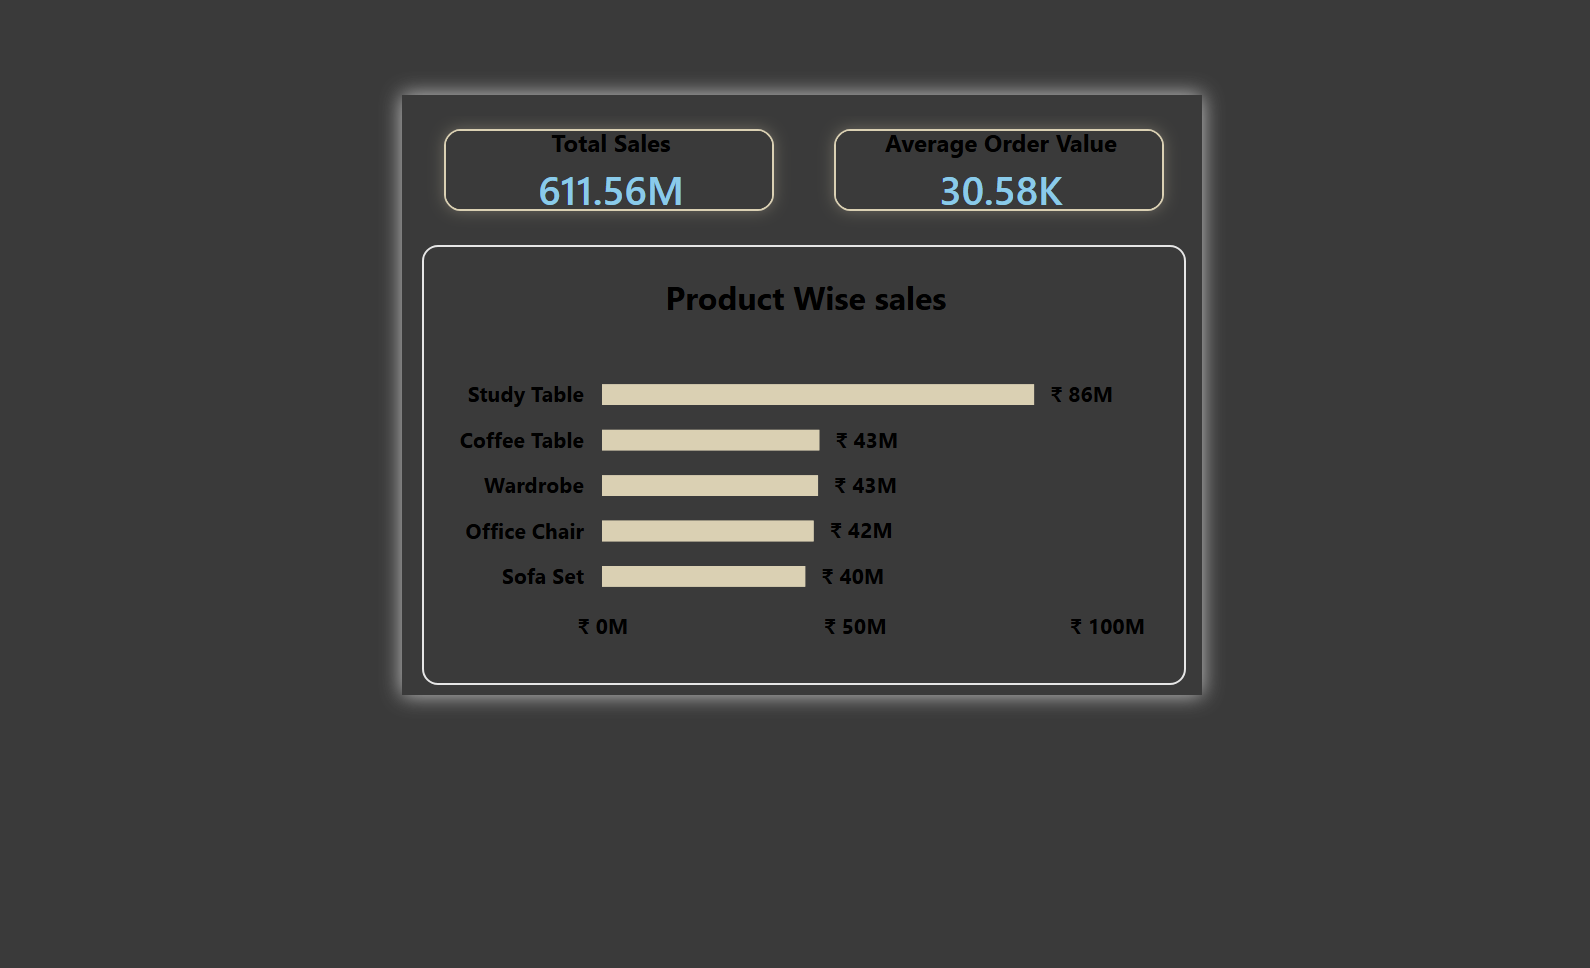

The page's visual inventory and layout, read from the dashboard file:
{"tool":"powerbi","page":{"name":"Tooltip","canvas":[400,300],"ordinal":1},"visuals":[{"type":"cardVisual","fields":{"Data":["Calculation_measure.Total Sales","Calculation_measure.Average Order Value"]},"box":[10,6.2,382.3,63.1],"z":0},{"type":"barChart","title":"Product Wise sales","fields":{"Category":["regionalsales2025.ProductName"],"Y":["Sum(regionalsales2025.TotalAmount)"]},"box":[10,74.6,381.5,220],"z":1000}]}

Visuals, with their boxes on the page's 400x300 design canvas (x1, y1, x2, y2). These are canvas units, not pixel positions in the 1590x968 screenshot, which may show the page scaled, cropped or inside an application window:
cardVisual - Calculation_measure.Total Sales x Calculation_measure.Average Order Value: box(10, 6, 392, 69)
"Product Wise sales" barChart: box(10, 75, 392, 295)
